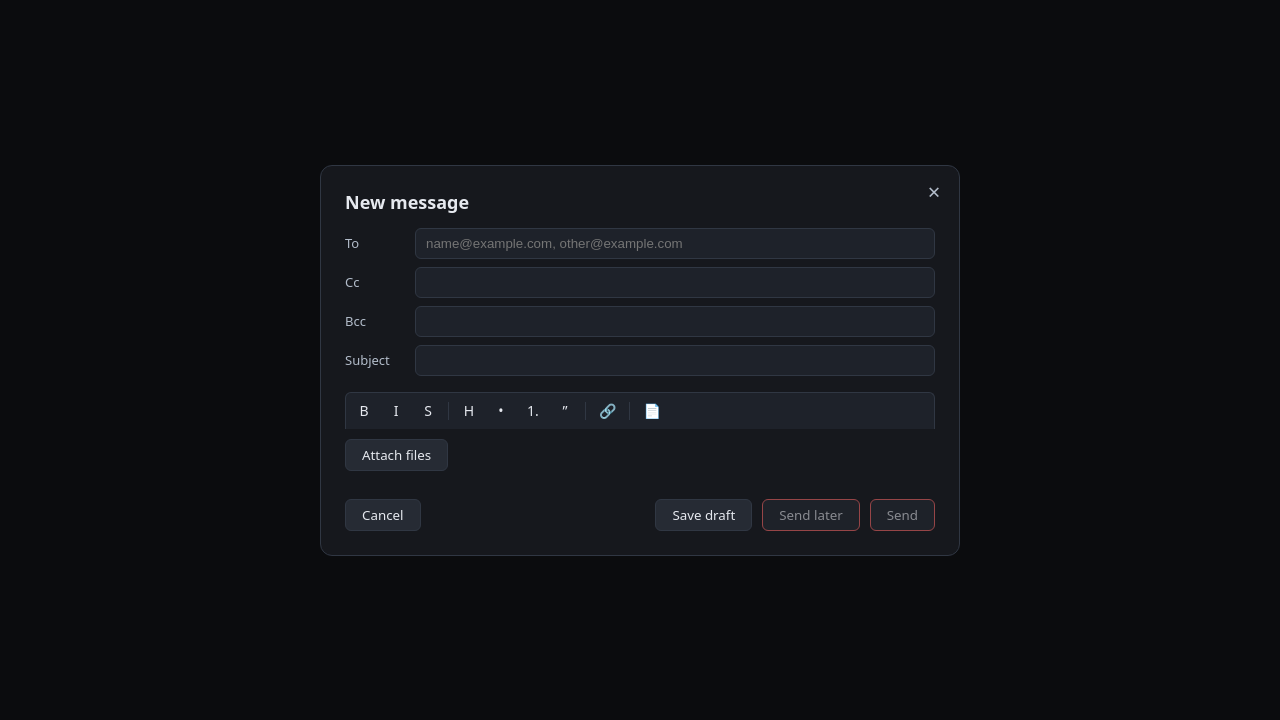
ComposeModal: discard guard › asks before Escape discards an edited compose; Cancel keeps writing
This screenshot has width=1280, height=720.
Type "bob@example.com" into the field with placeholder "name@example.com, other@example.com".
click(675, 243); type("bob@example.com")  # box [415, 228, 935, 258]
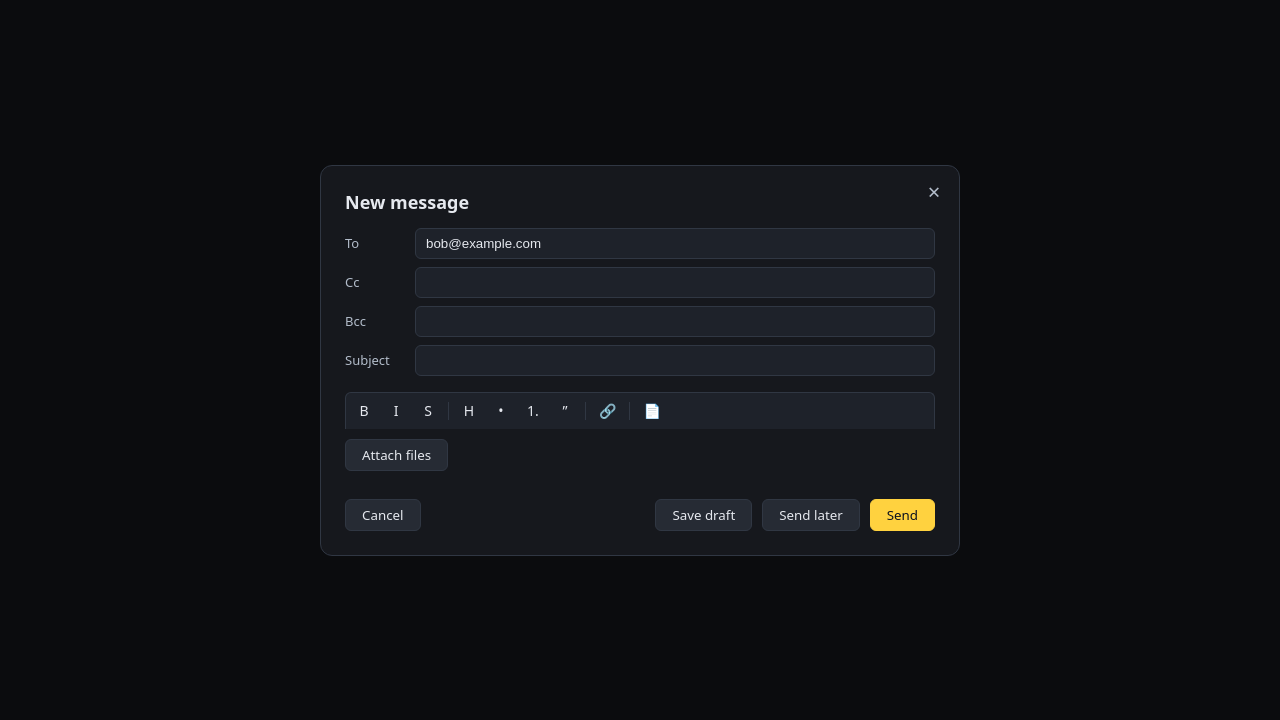
Press Escape
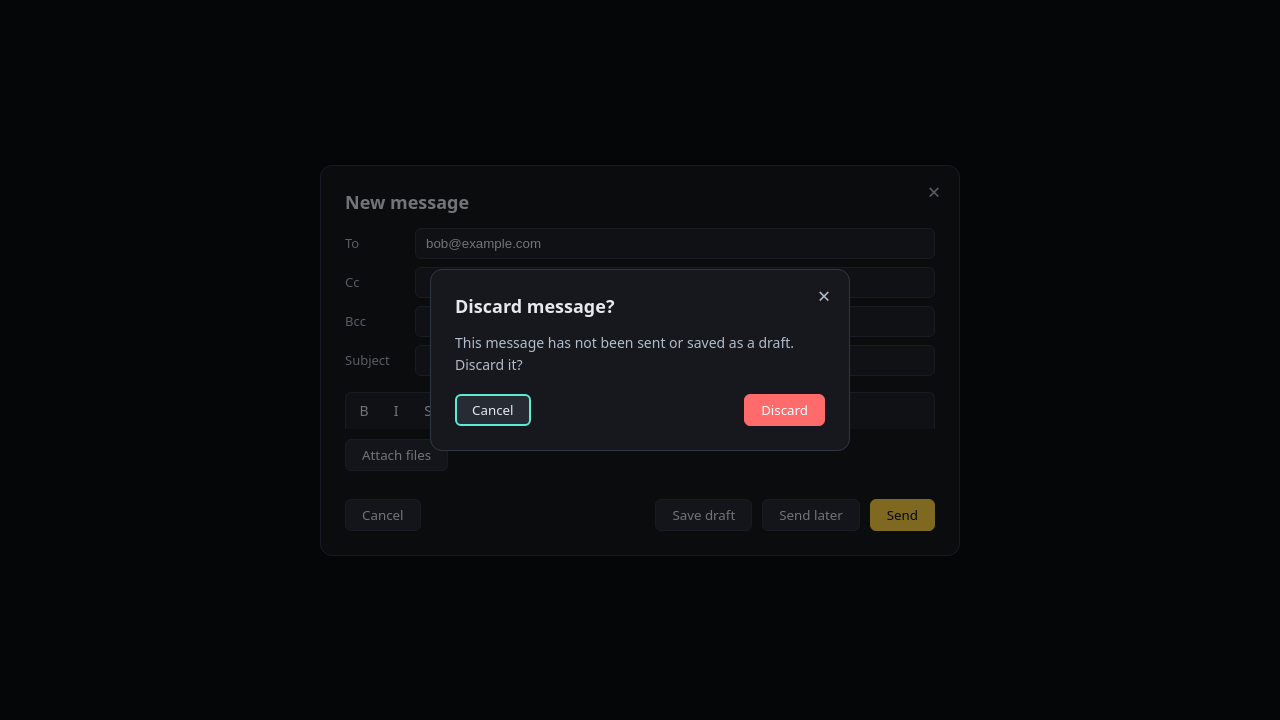
Check: the dialog "Discard message?" is shown, box [430, 269, 850, 451]
Click the button "Cancel".
click(493, 410)  # box [455, 394, 530, 426]
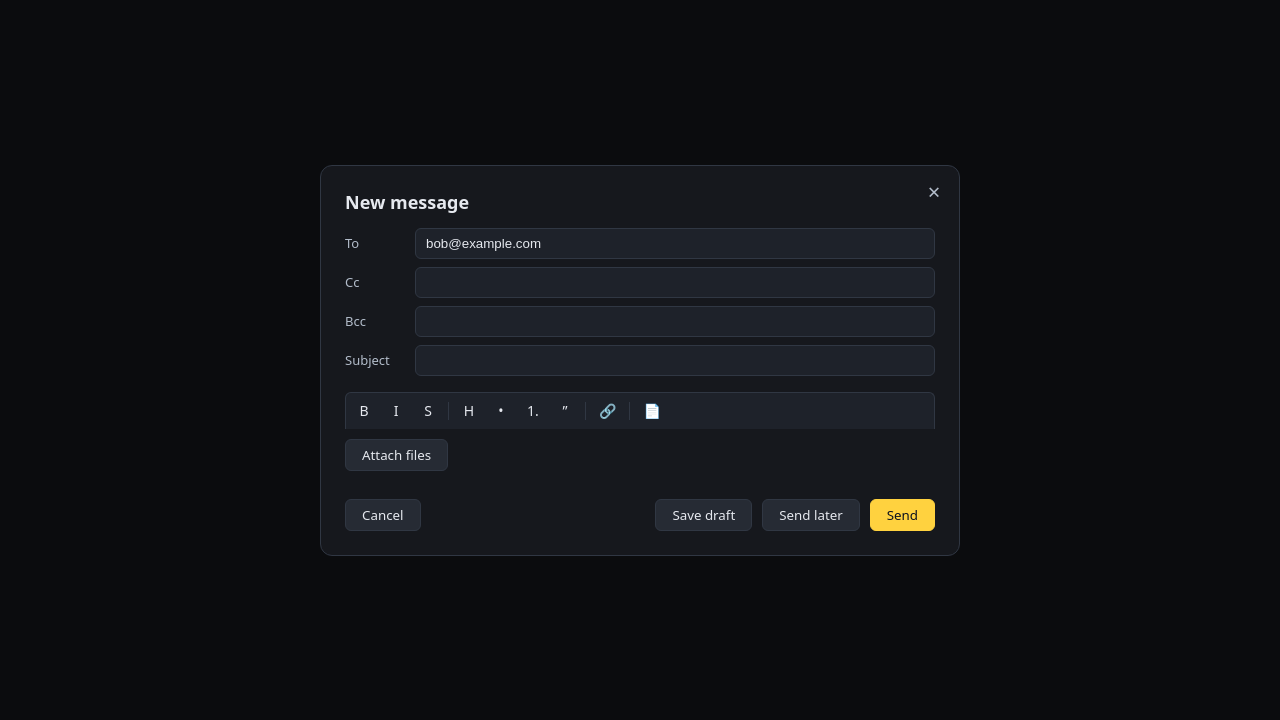
Check: the heading "Discard message?" is gone
